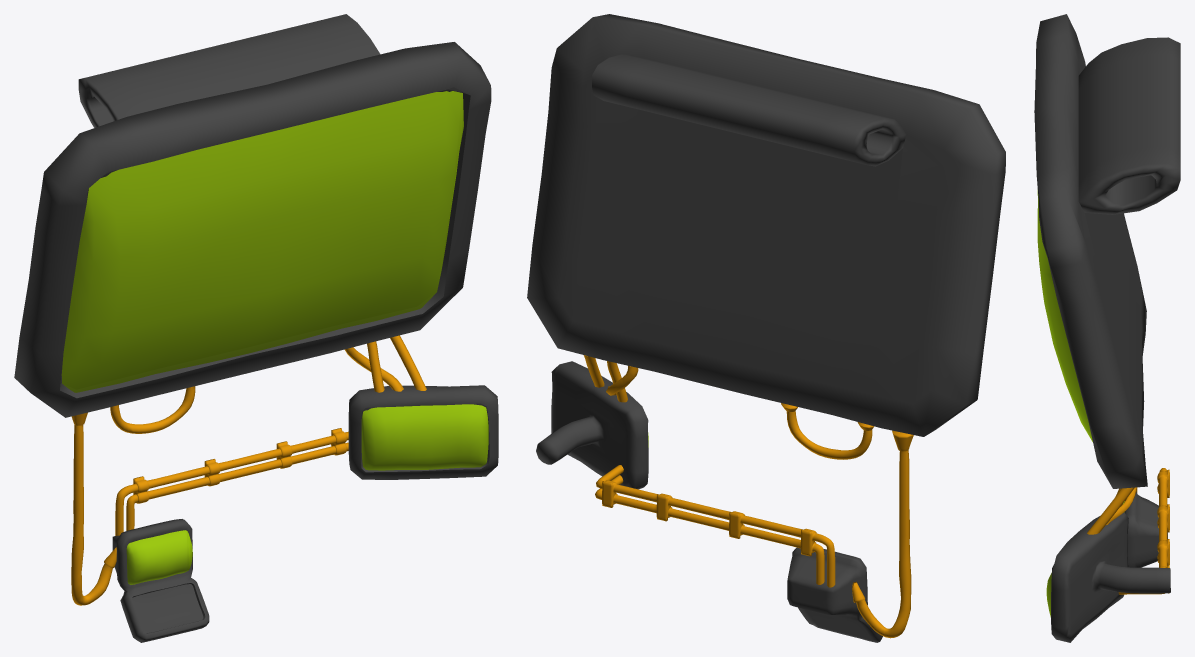
File: fullPC.fbx
3 views of the same model, side by side, from view 1: azimuth 30°, elevation 25°; view 2: azimuth 150°, elevation 25°; view 3: azimuth 270°, elevation 25° (orthographic).
Parts seen in each view (by area): view 1: screenGlass, screen_low, smallScreenGlass, laptop_low, smallScreen_low, lowerWires, leftSideWires, laptopGlass, rightSideWires; view 2: screen_low, smallScreen_low, lowerWires, laptop_low, leftSideWires, rightSideWires; view 3: screen_low, smallScreen_low, screenGlass, laptop_low, lowerWires, rightSideWires.
Boxes of the visible parts, x1,y1,x2,y2 form: screenGlass: [61, 91, 463, 392]; screen_low: [14, 14, 491, 417]; smallScreenGlass: [361, 404, 488, 470]; laptop_low: [112, 519, 209, 642]; smallScreen_low: [348, 385, 498, 479]; lowerWires: [115, 428, 348, 535]; leftSideWires: [71, 386, 195, 605]; laptopGlass: [126, 530, 192, 584]; rightSideWires: [344, 335, 426, 392]; screen_low: [527, 14, 1005, 436]; smallScreen_low: [536, 361, 648, 489]; lowerWires: [595, 465, 835, 587]; laptop_low: [787, 547, 882, 642]; leftSideWires: [781, 403, 913, 638]; rightSideWires: [583, 355, 638, 402]; screen_low: [1034, 14, 1180, 488]; smallScreen_low: [1051, 512, 1170, 642]; screenGlass: [1037, 190, 1092, 441]; laptop_low: [1124, 491, 1167, 567]; lowerWires: [1118, 468, 1169, 594]; rightSideWires: [1087, 487, 1137, 534].
Size of the model in its own units: 252 by 291 by 71.78.
